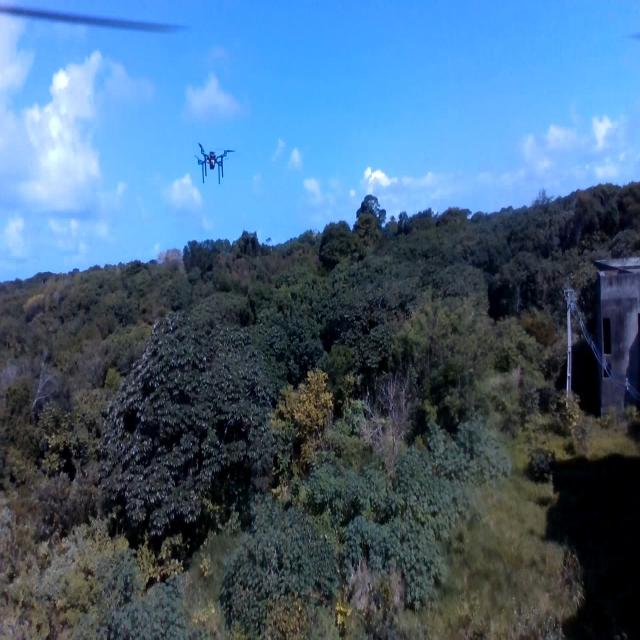-uav-: (188, 133, 237, 196)
